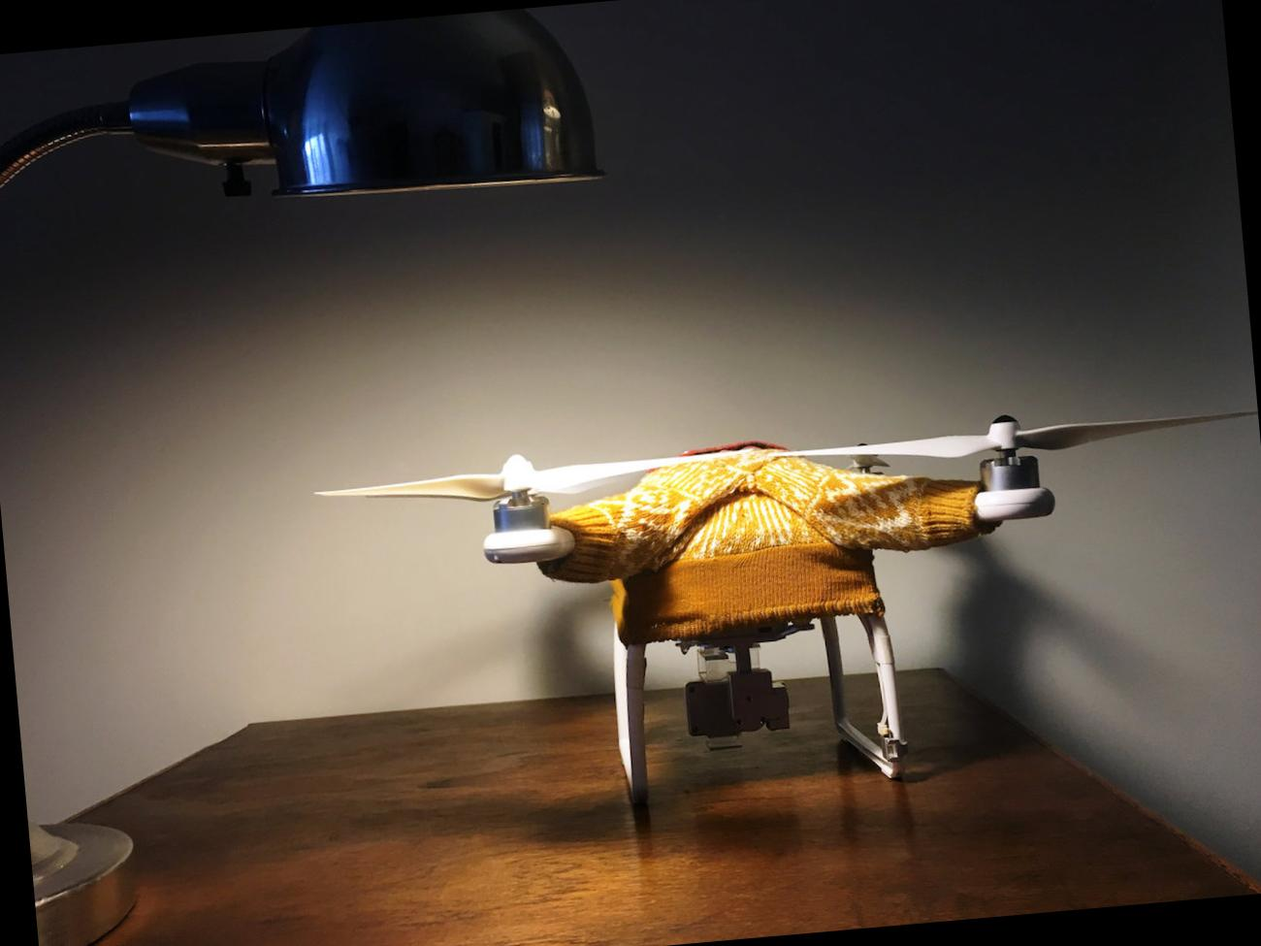drone: (304, 355, 1261, 718)
